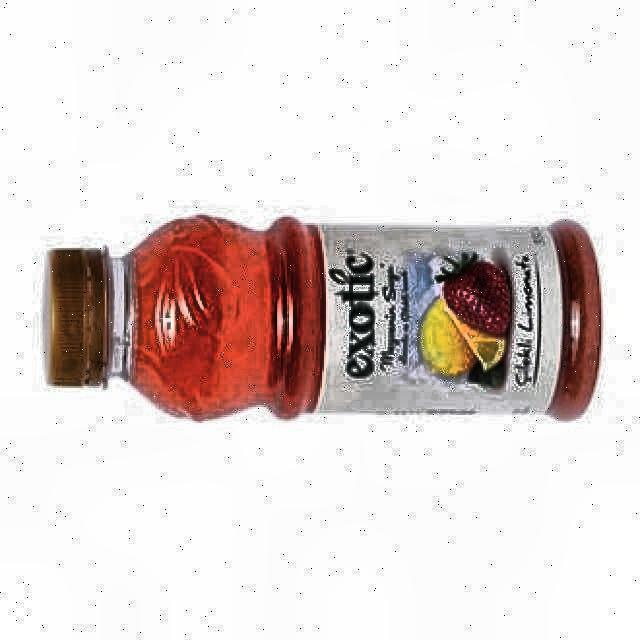plastic: (45, 215, 601, 419)
